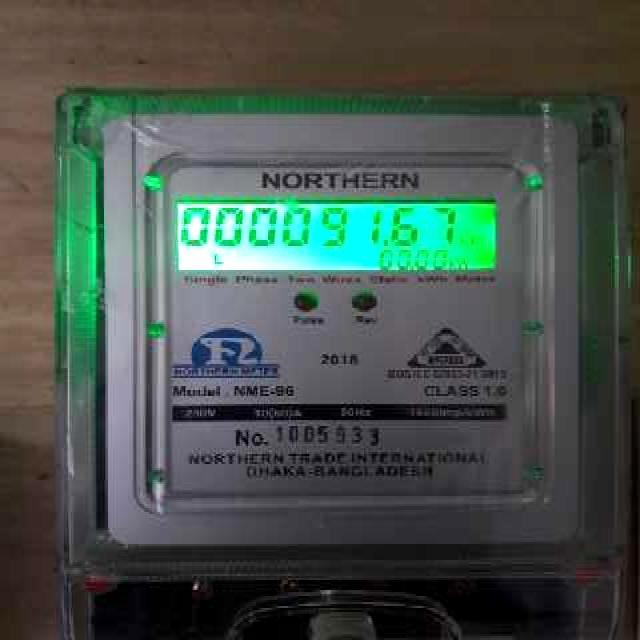LCD: (165, 190, 510, 287)
